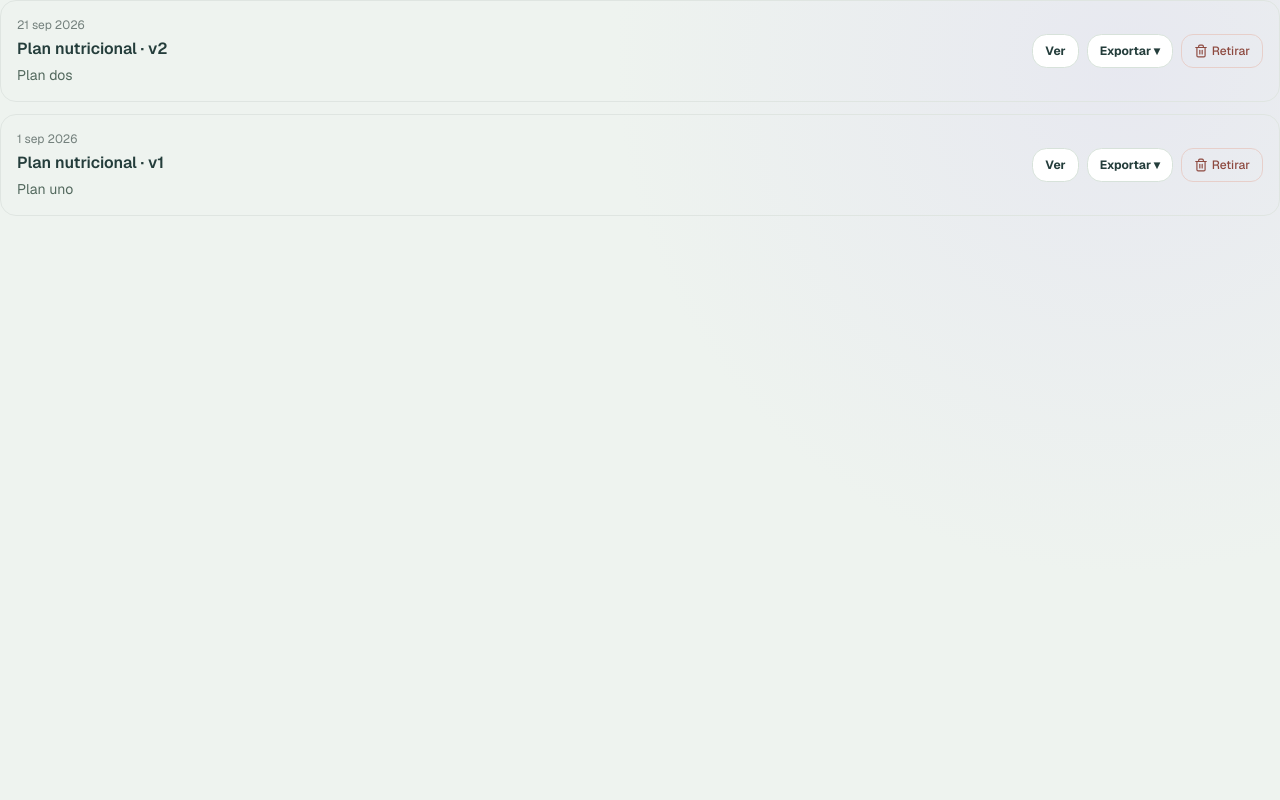
Test: retires an obsolete publication from history after confirmation
Click the button with aria-label "Retirar versión 1 del historial": (1222, 165) [1181,148,1263,182]
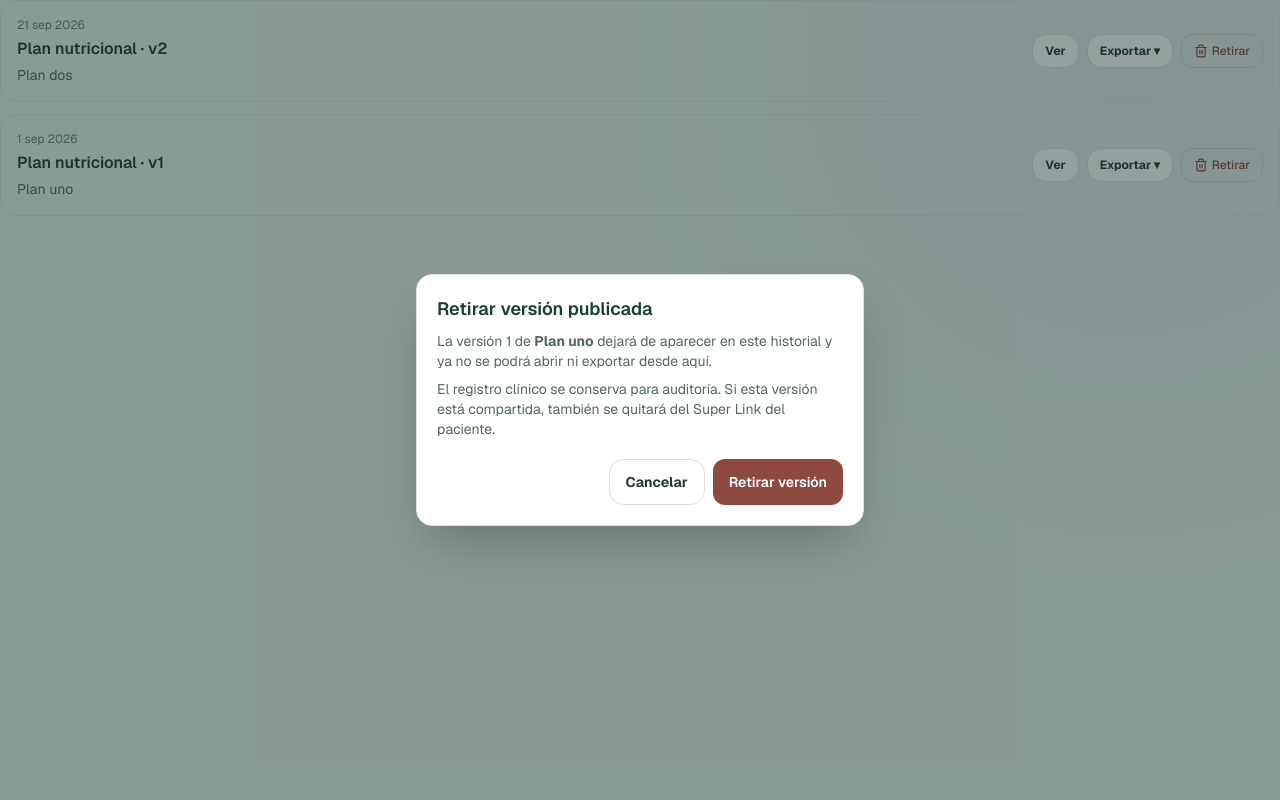
Result: the dialog "Retirar versión publicada" shows "El registro clínico se conserva para auditoría" at [437,380,818,438]
Click the button "Retirar versión": (778, 482) [713,459,843,505]
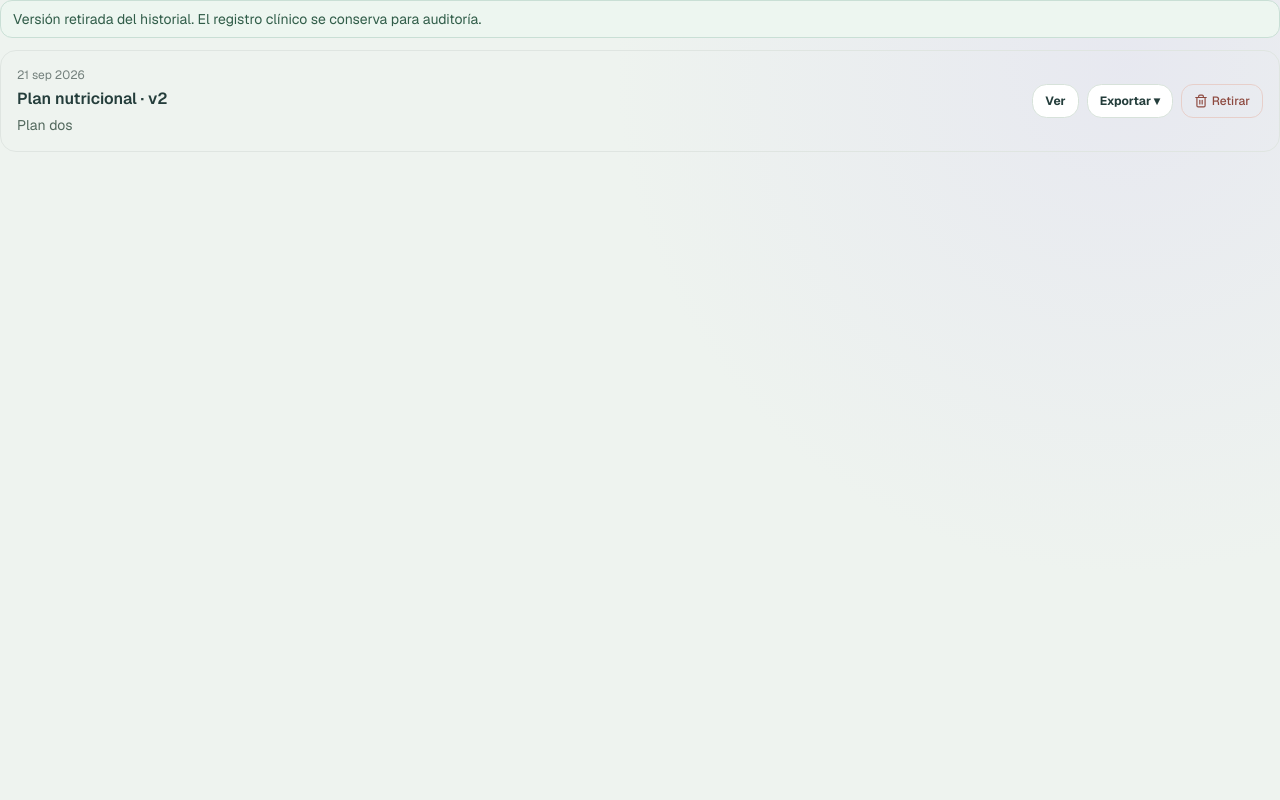
Result: the message shows "Versión retirada del historial" at [13,10,481,28]
Result: the text "Plan uno" is gone
